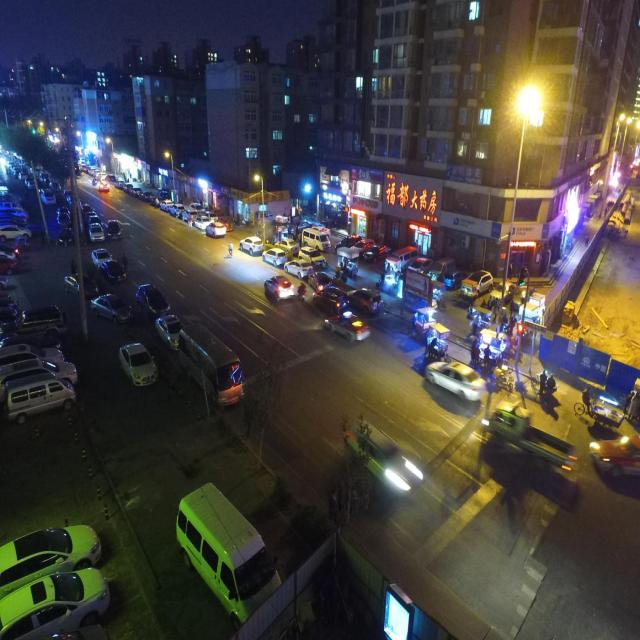person: (228, 242, 233, 256)
